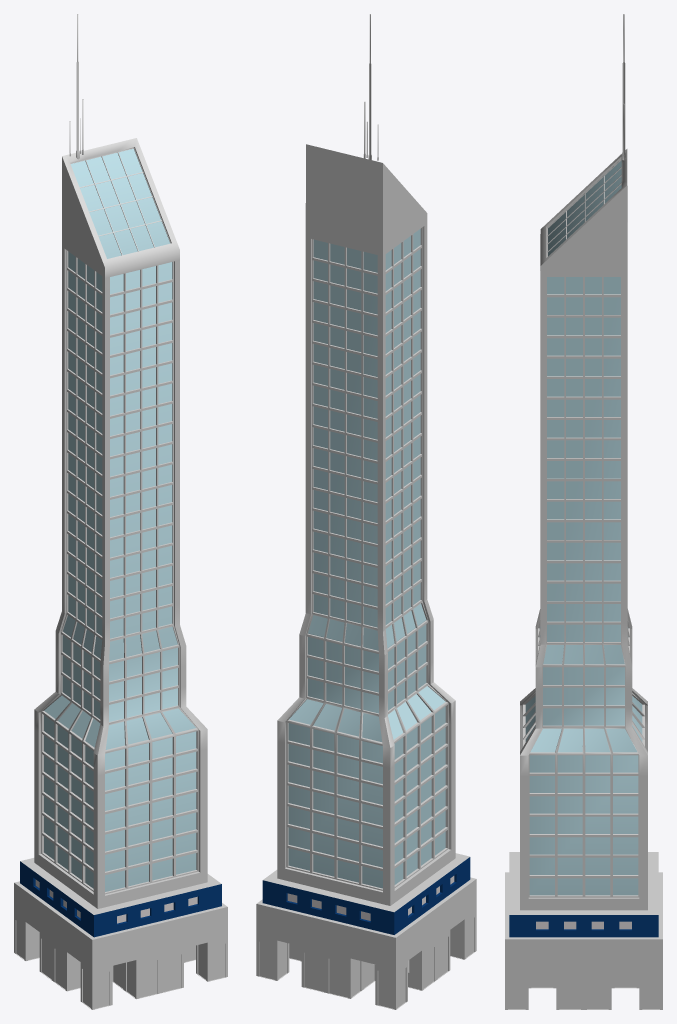
Rendered from skyscraper01_blue.fbx.
3 views of the same model, side by side, from view 1: azimuth 30°, elevation 25°; view 2: azimuth 150°, elevation 25°; view 3: azimuth 270°, elevation 25° (orthographic). The views are drawn at different scales.
Visible parts, largest first — view 1: Box02, Box01, Box02_001; view 2: Box02, Box01, Box02_001; view 3: Box01, Box02, Box02_001, Cylinder02, Box02_002.
Part boxes in pixels (x1=…): Box02: x1=14, y1=138, x2=227, y2=1009; Box01: x1=44, y1=149, x2=196, y2=891; Box02_001: x1=20, y1=861, x2=221, y2=937; Box02: x1=256, y1=144, x2=476, y2=1009; Box01: x1=288, y1=229, x2=445, y2=888; Box02_001: x1=262, y1=857, x2=470, y2=934; Box01: x1=525, y1=160, x2=642, y2=895; Box02: x1=505, y1=149, x2=662, y2=1009; Box02_001: x1=509, y1=915, x2=658, y2=937; Cylinder02: x1=622, y1=14, x2=625, y2=159; Box02_002: x1=536, y1=921, x2=631, y2=929.
Bounding box in the file's own units: 48.1 × 319 × 48.1.
